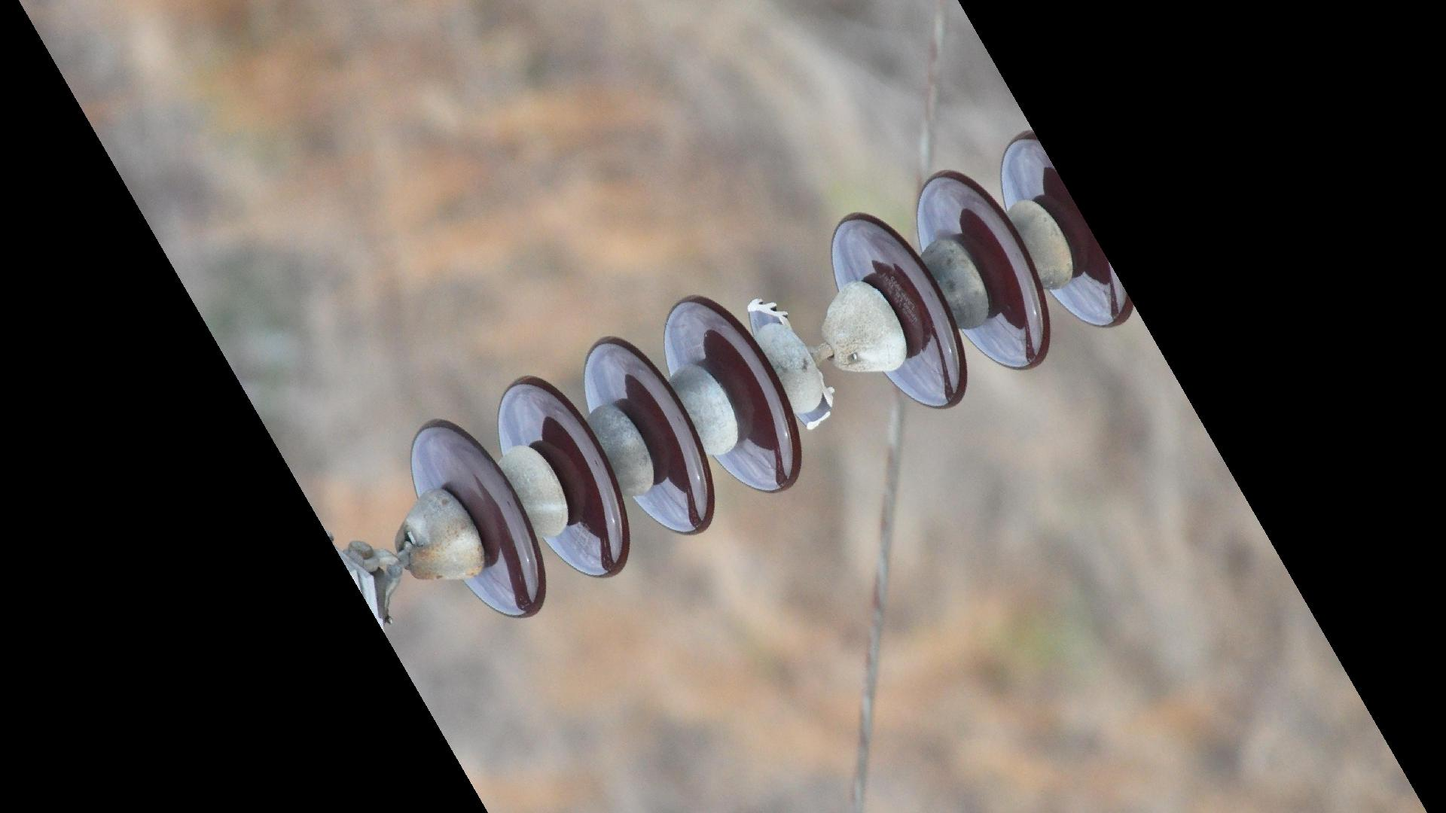insulator: (398, 118, 1140, 626)
insulator_breakage: (743, 290, 842, 436)
